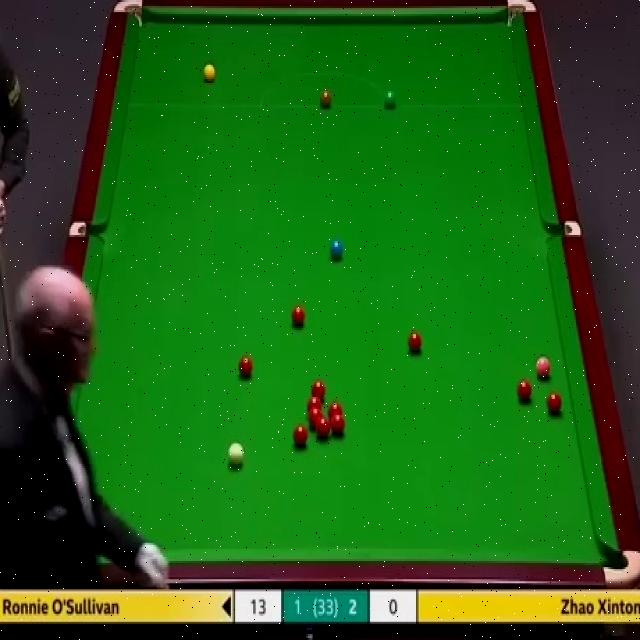blue-ball: (329, 238, 344, 259)
brown-ball: (319, 89, 332, 109)
green-ball: (384, 91, 396, 108)
pink-ball: (535, 354, 551, 380)
red-ball: (238, 354, 255, 382), (544, 392, 562, 418), (291, 424, 308, 448), (518, 379, 535, 403), (330, 414, 346, 438), (408, 330, 423, 355), (291, 306, 306, 328), (316, 416, 330, 439), (310, 380, 326, 397), (308, 409, 322, 428), (307, 395, 322, 412), (328, 404, 342, 417)
white-ball: (228, 442, 244, 467)
yellow-ball: (203, 64, 217, 85)
